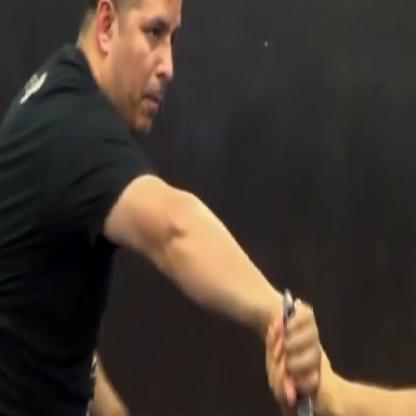knife: (271, 284, 335, 415)
